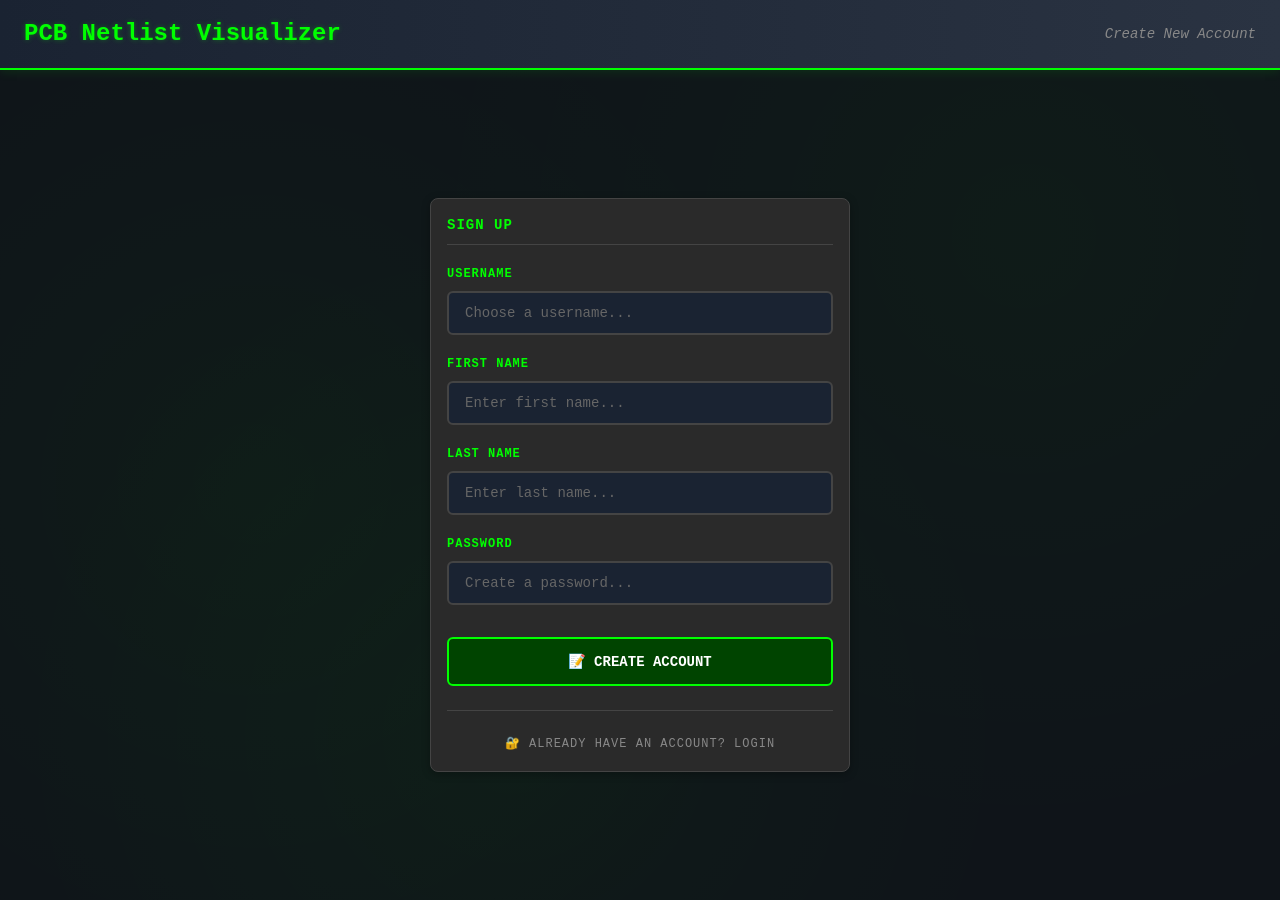
Test case: SignUpPage › should display generic error message when error has no message
The width and height of the screenshot is (1280, 900).
Type "testuser" into the field labelled "Username" at (640, 313), box [447,291,833,335]
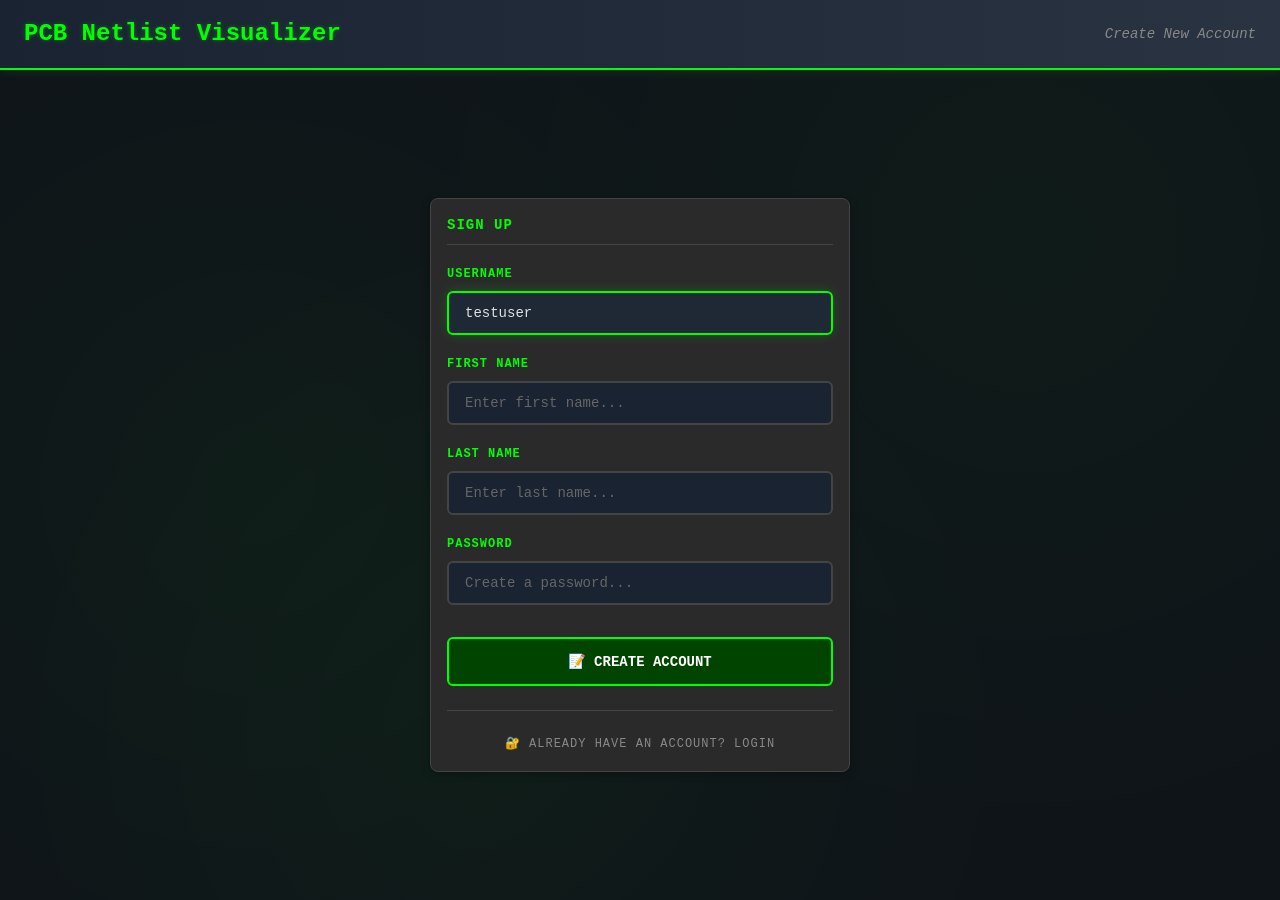
Type "John" into the field labelled "First Name" at (640, 403), box [447,381,833,425]
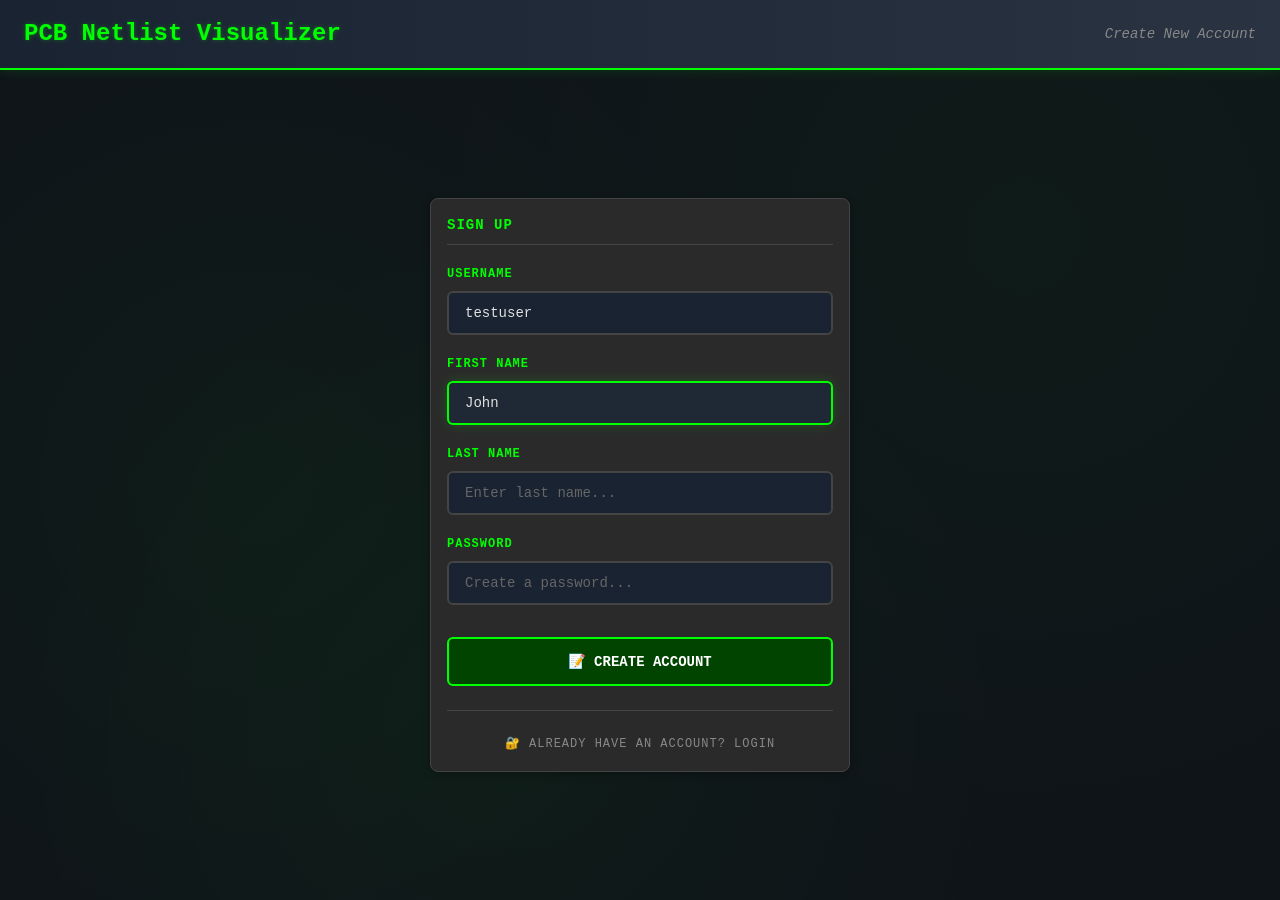
Type "Doe" into the field labelled "Last Name" at (640, 493), box [447,471,833,515]
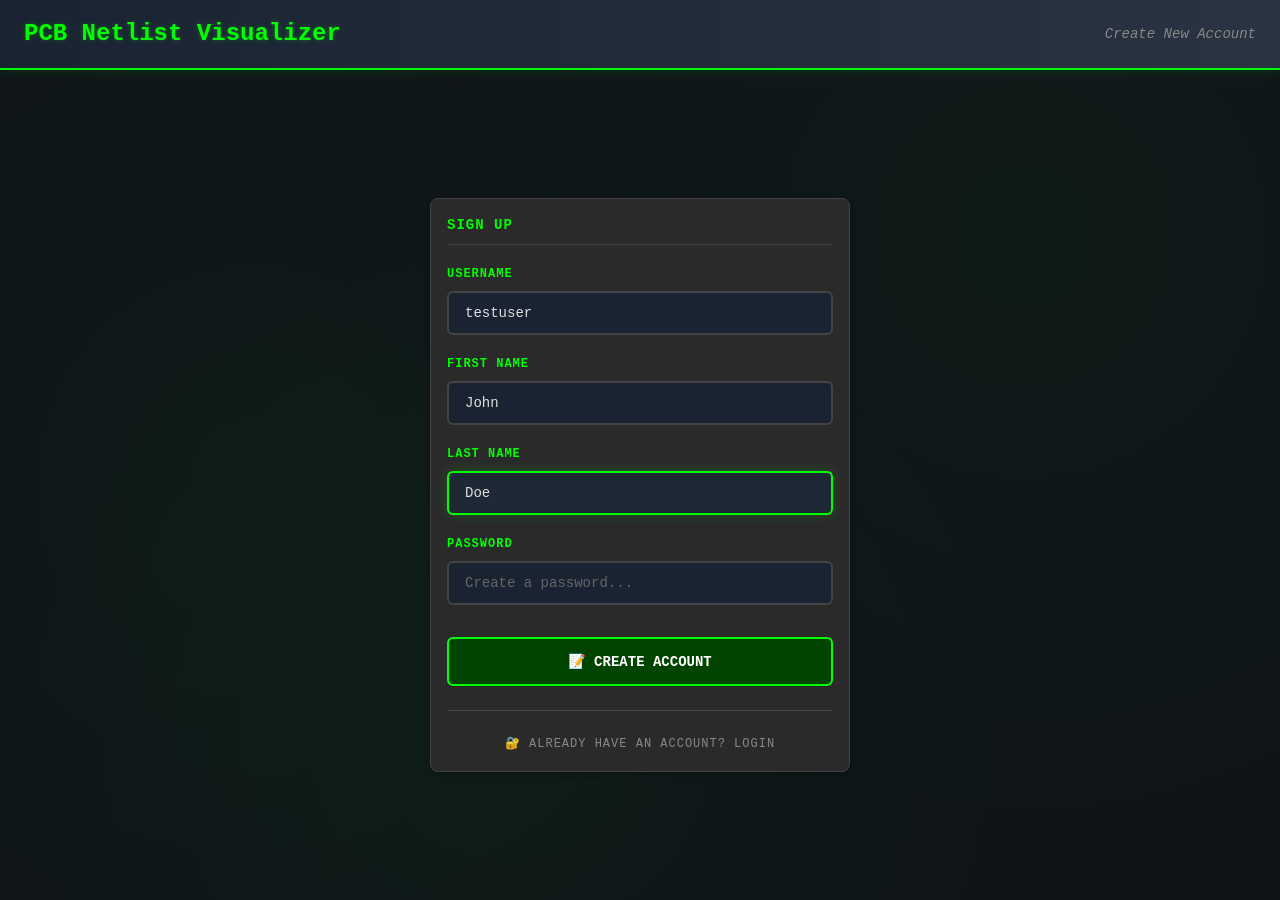
Type "testpass" into the password field labelled "Password" at (640, 583), box [447,561,833,605]
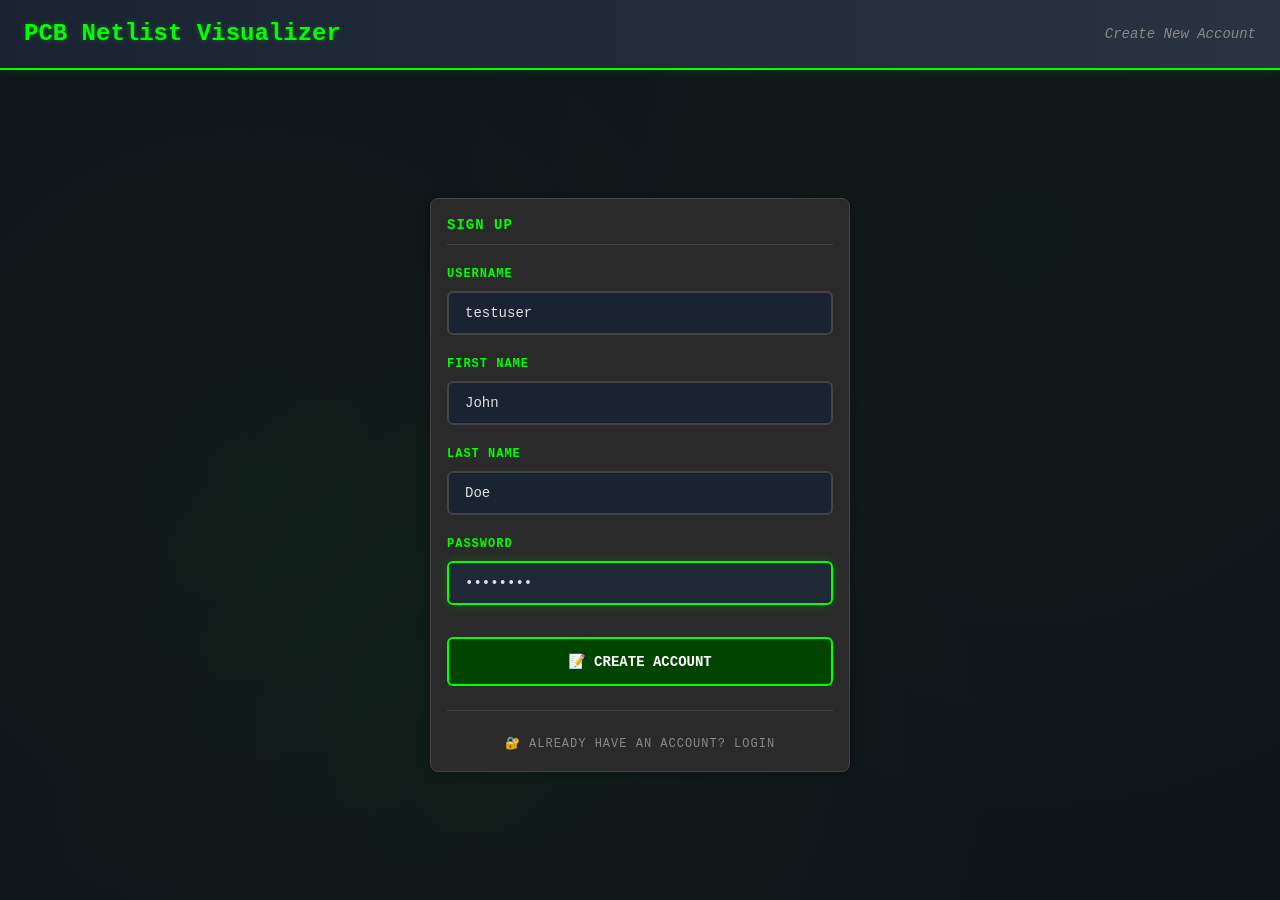
Click the button "📝 Create Account" at (640, 662), box [447,637,833,686]
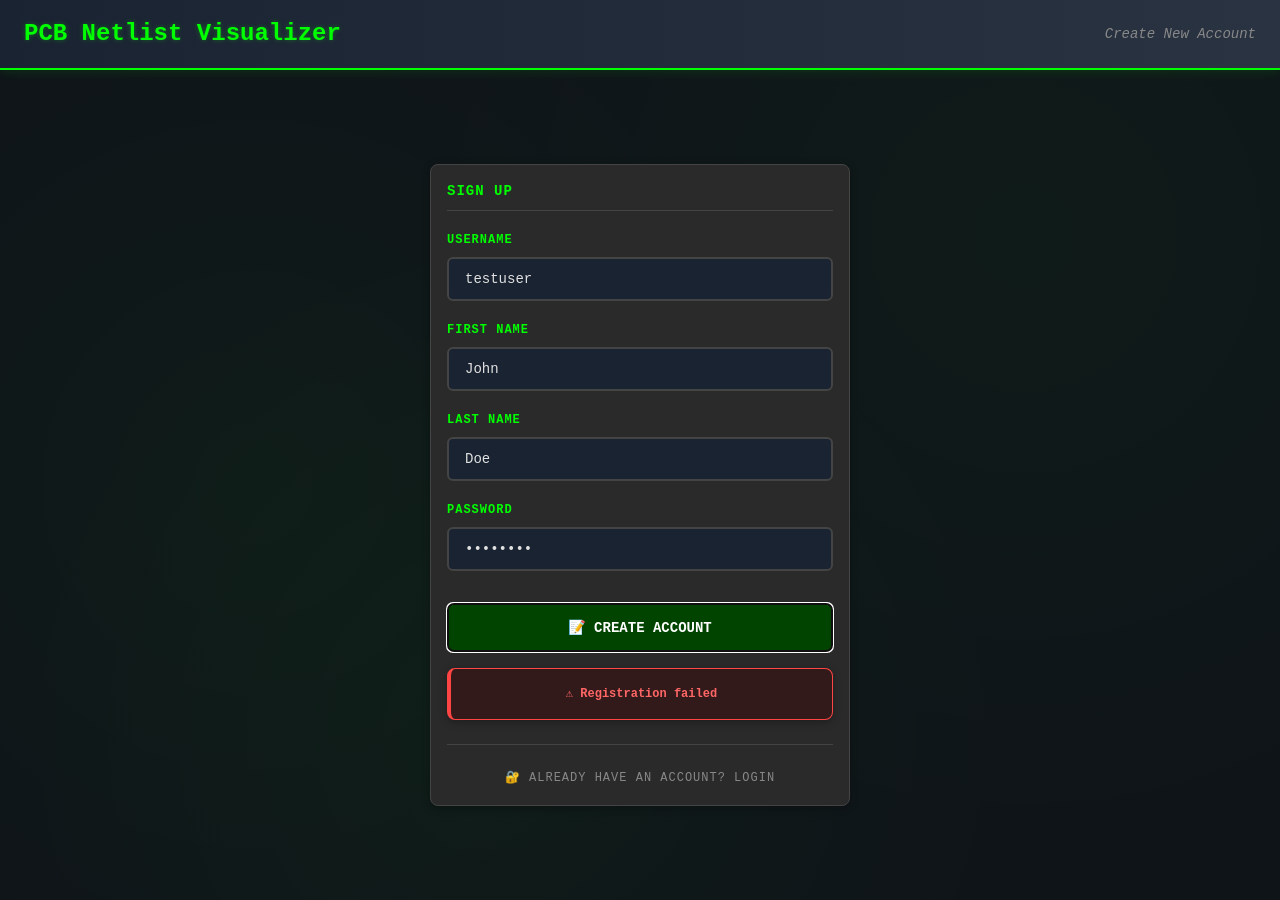
Expected: the text "⚠ Registration failed" is shown, [566,687,717,701]
